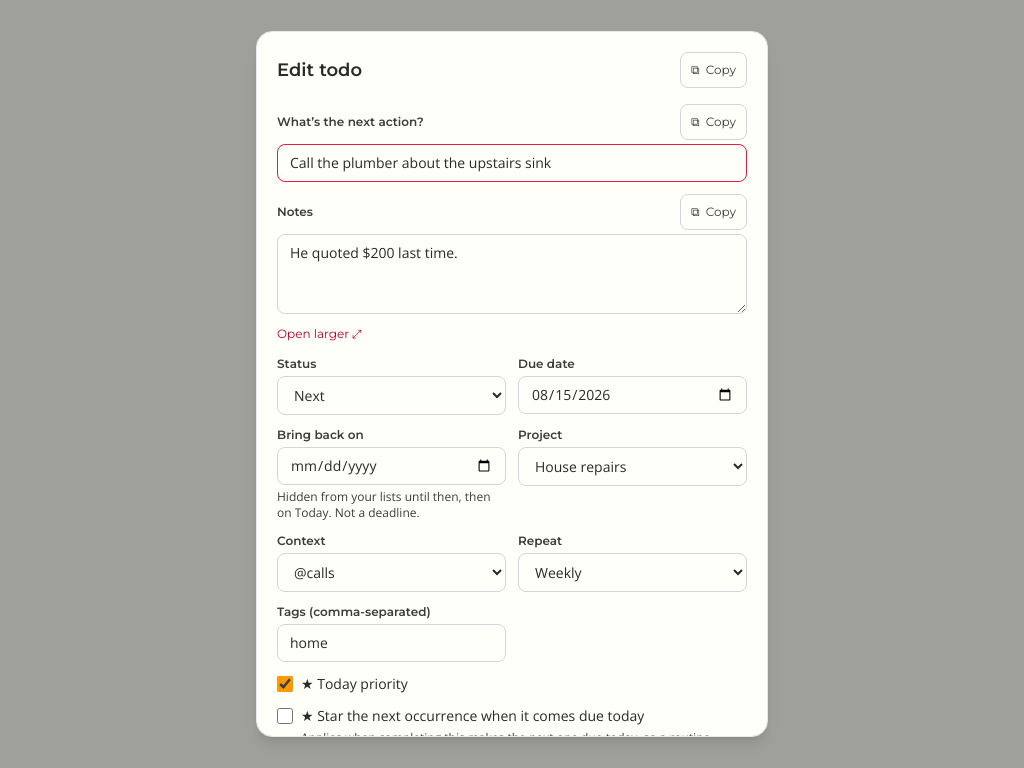
TodoEditSheet copy buttons › says so when the copy could not happen at all
Click the button "⧉ Copy" in the row of "What’s the next action?": click(714, 122) [680,104,747,140]
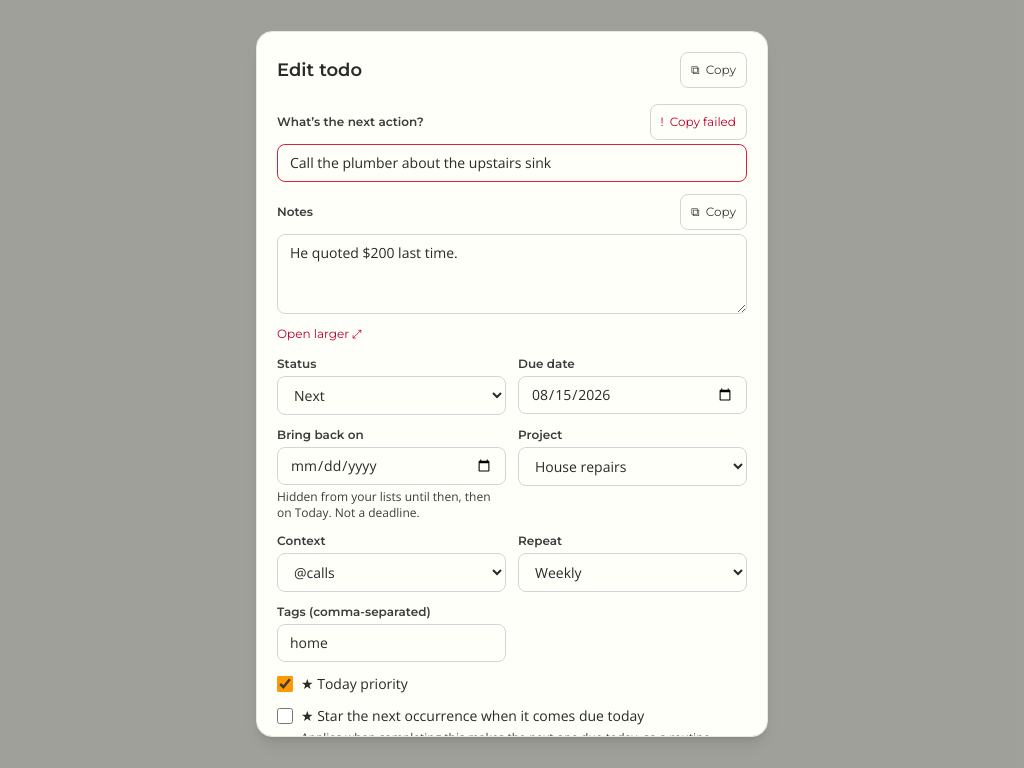
Now the button "! Copy failed" is shown, box [650,104,747,140]
